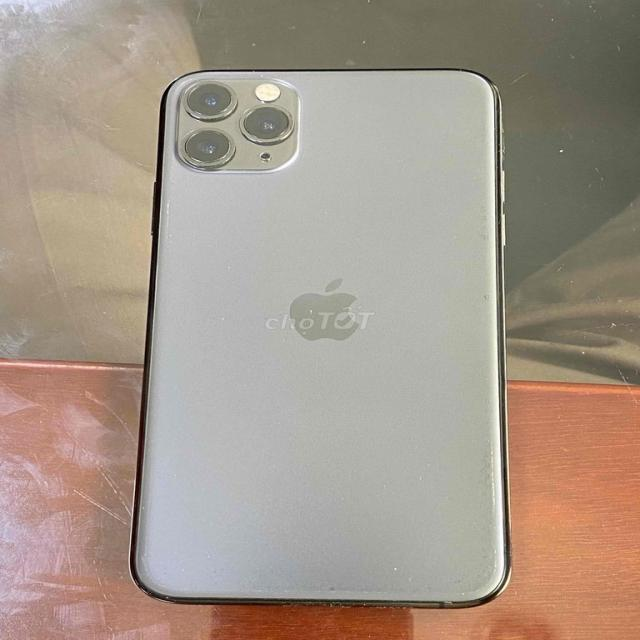gen_11: (135, 64, 512, 613)
